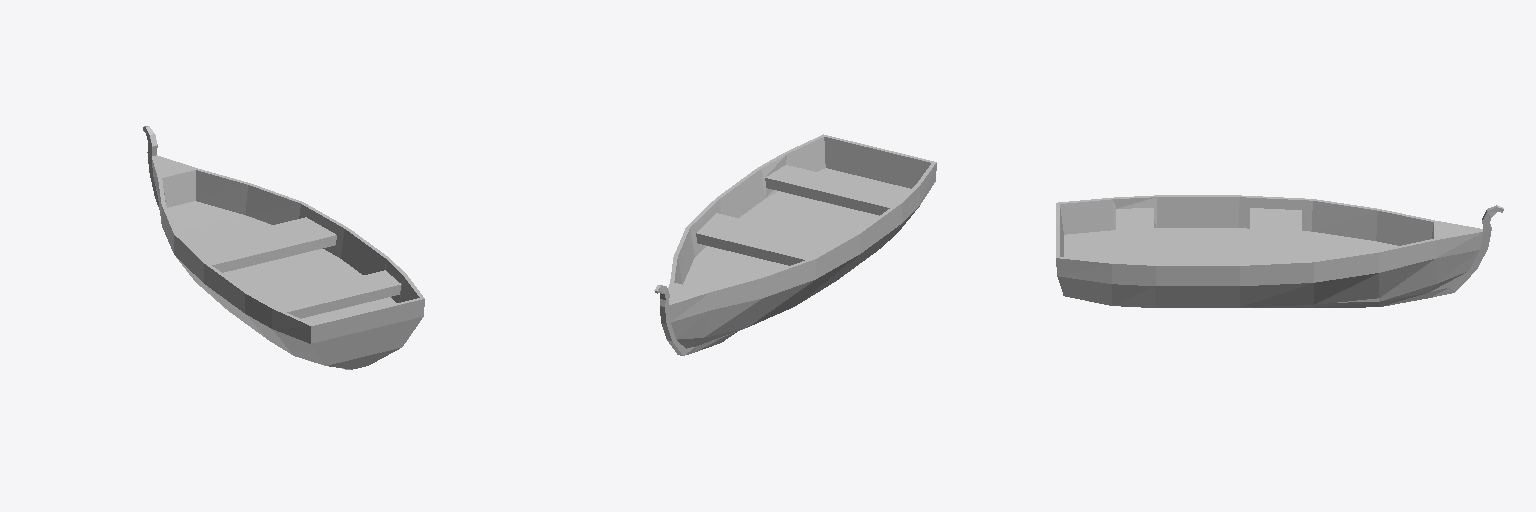
The model's file is row_boat.obj.
3 renders of one model, left to right at view 1: azimuth 30°, elevation 25°; view 2: azimuth 150°, elevation 25°; view 3: azimuth 270°, elevation 25°, orthographic.
Parts seen in each view (by area): view 1: Box001; view 2: Box001; view 3: Box001.
Part boxes in pixels (left/top/right/bottom): Box001: left=143, top=126, right=424, bottom=369; Box001: left=654, top=134, right=936, bottom=355; Box001: left=1056, top=195, right=1503, bottom=307.
Bounding box in the file's own units: 22.57 × 14.87 × 60.65.